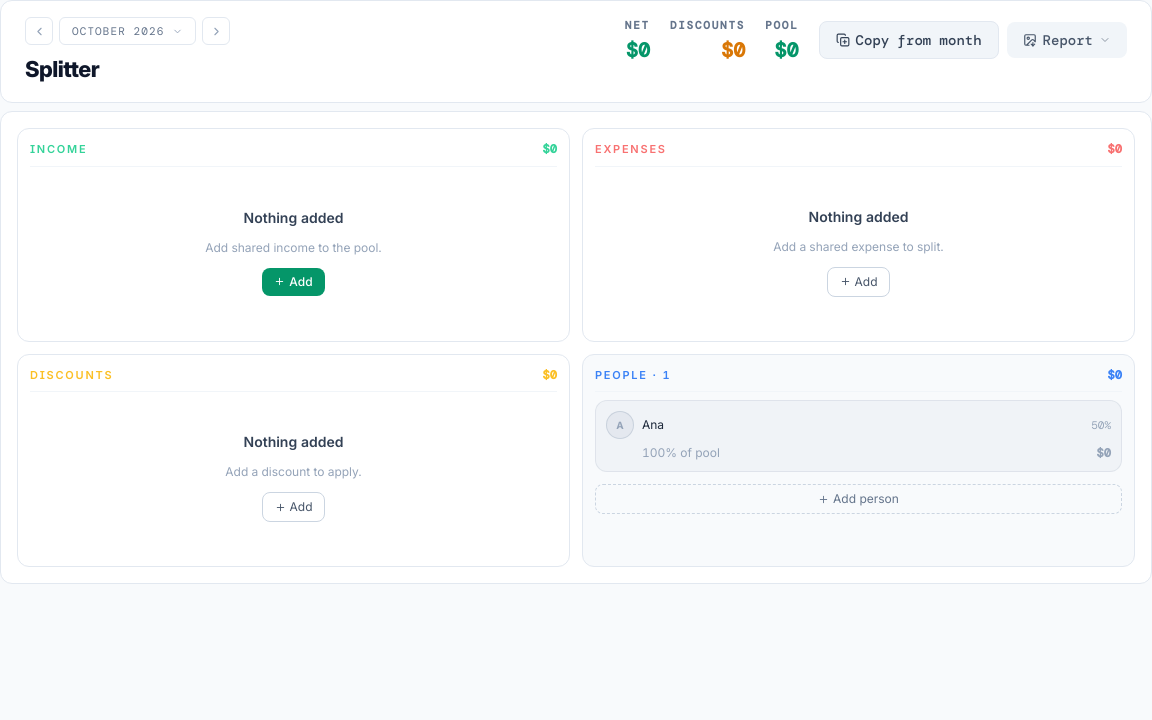
Splitter month copy › shows a failed copy inline and keeps the modal open
The width and height of the screenshot is (1152, 720).
Click the button "Copy from month". click: click(909, 40)
box: [819,21,999,59]
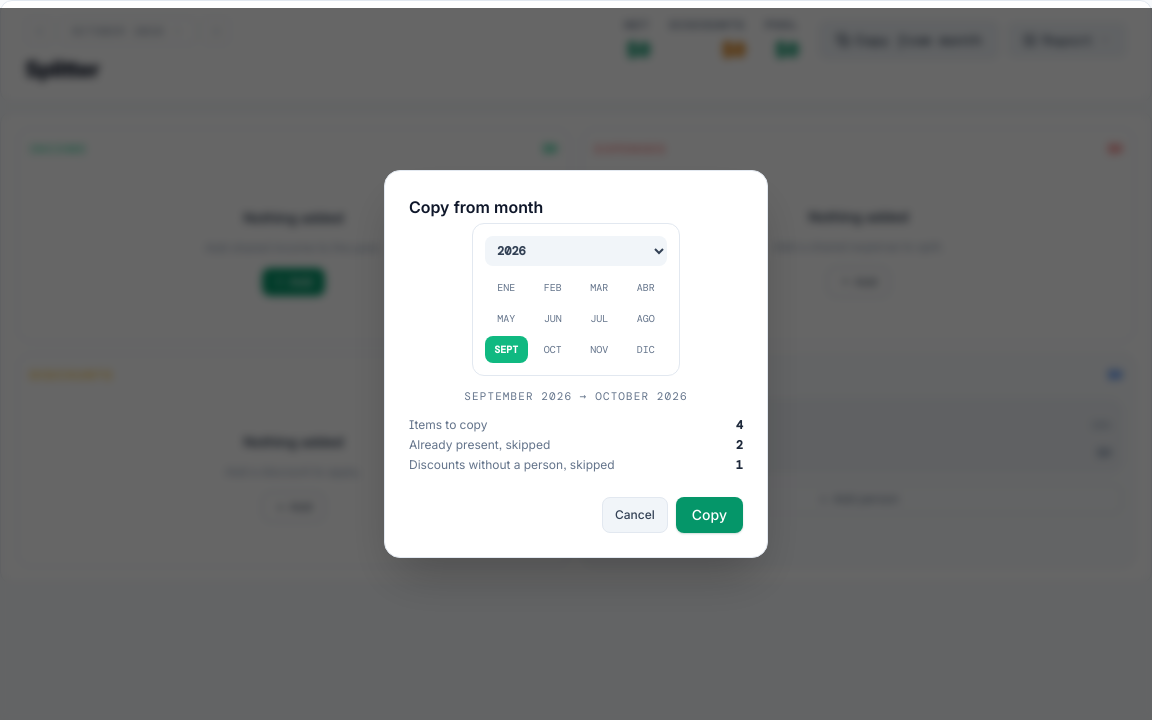
Expected: the text "Items to copy" is shown, [409,417,488,433]
Click the button "Copy". click: click(709, 515)
box: [676,497,743,533]
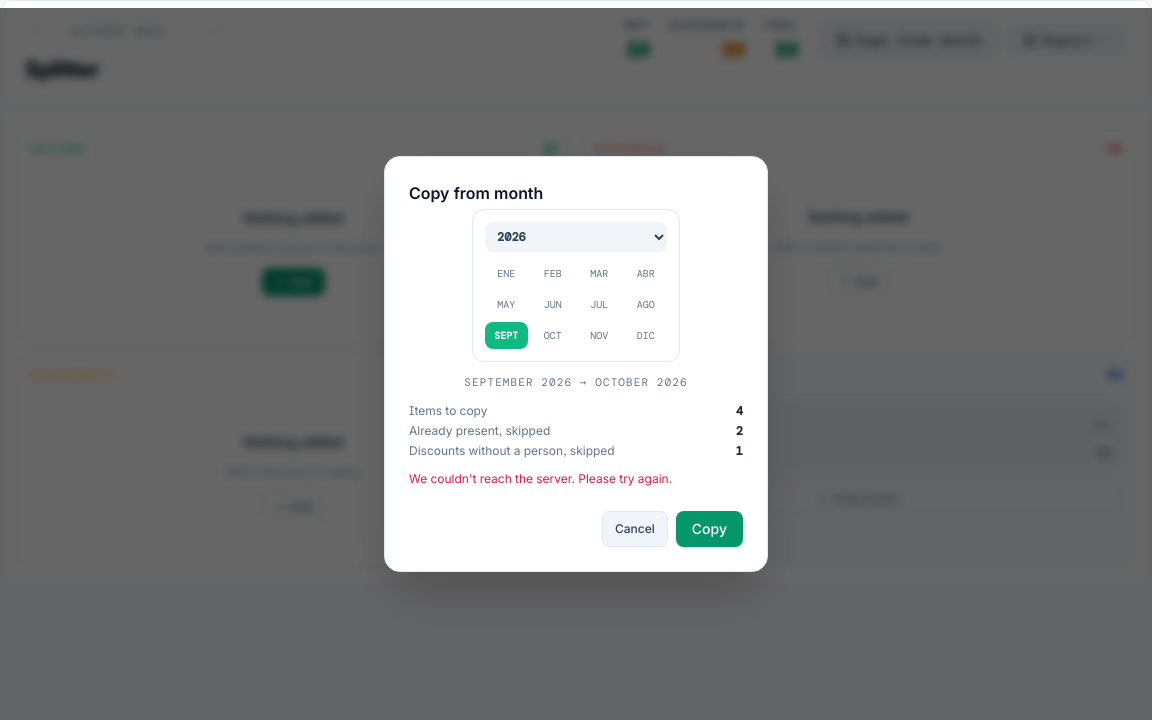
Expected: the heading "Copy from month" is shown, [409,183,543,203]
Expected: the message shows "We couldn't reach the server", [409,471,672,486]
